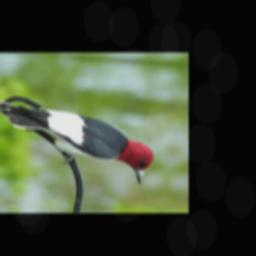Woodpecker: (0, 98, 163, 186)
